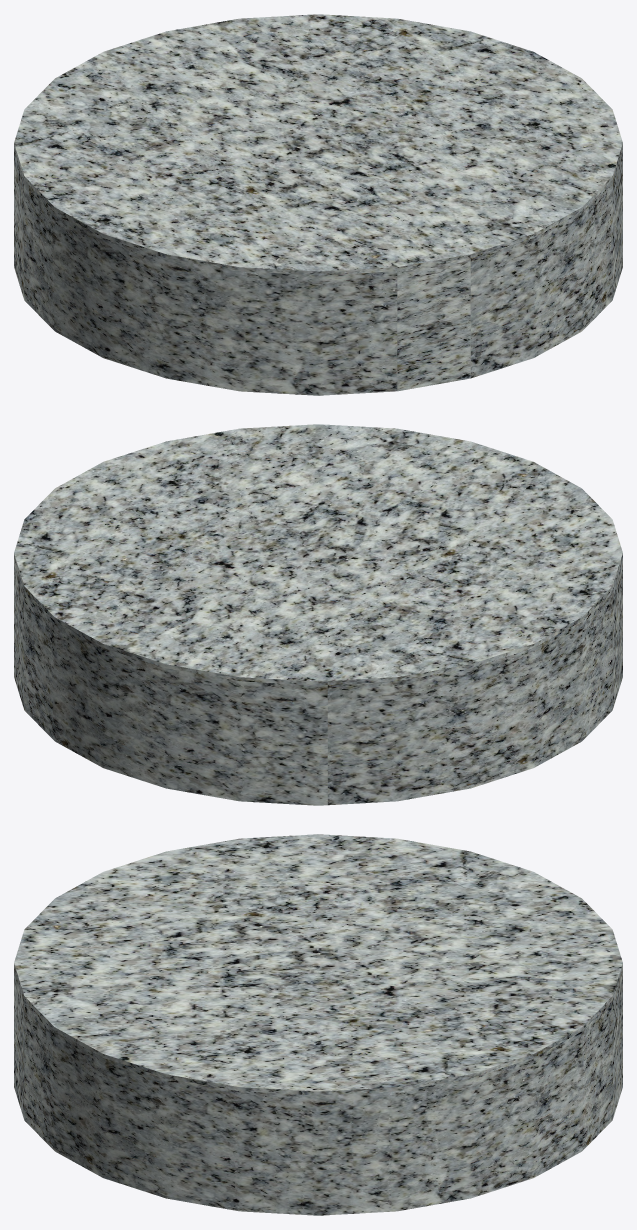
File: table.obj
3 renders of one model, top to bottom at view 1: azimuth 30°, elevation 25°; view 2: azimuth 150°, elevation 25°; view 3: azimuth 270°, elevation 25°, orthographic.
Visible parts, largest first — view 1: Cylinder; view 2: Cylinder; view 3: Cylinder.
Boxes of the visible parts, bbox=[...] form: Cylinder: bbox=[14, 14, 622, 395]; Cylinder: bbox=[14, 424, 622, 805]; Cylinder: bbox=[14, 834, 622, 1215].
Size of the model in its own units: 4 by 0.9 by 4.
